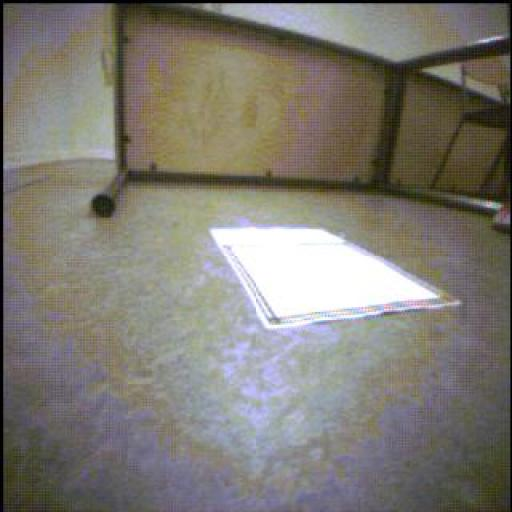Pad: (212, 228, 462, 331)
